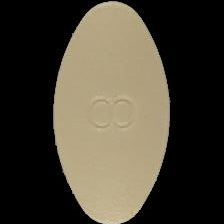55700-064: (0, 0, 224, 224)
